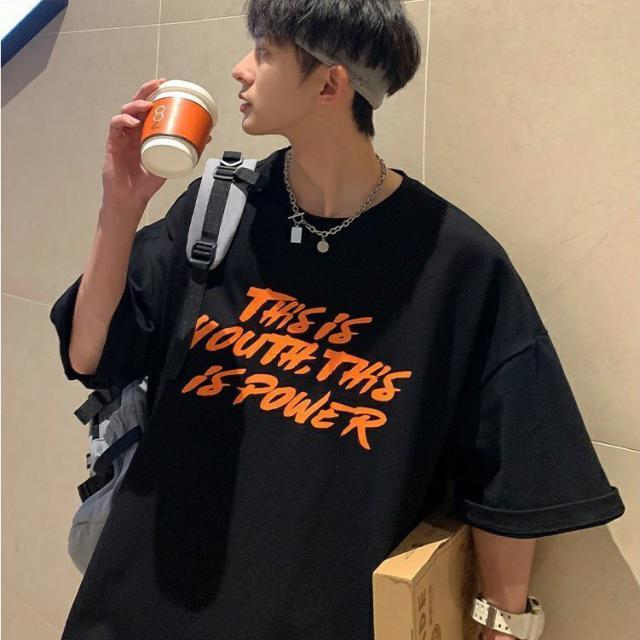Shirt: (52, 146, 626, 640)
